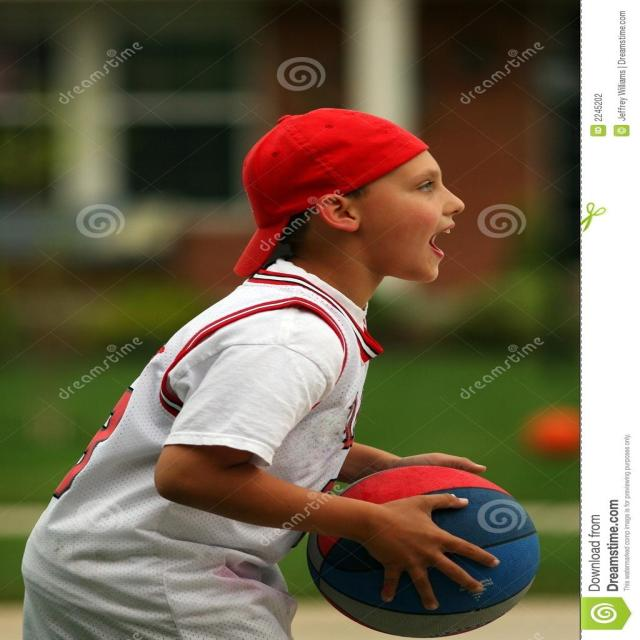Face: (358, 142, 472, 294)
